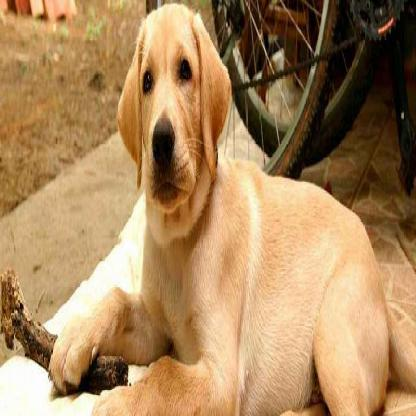dog: (49, 5, 416, 416)
